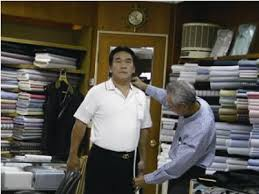F_shirt: (72, 79, 154, 150)
